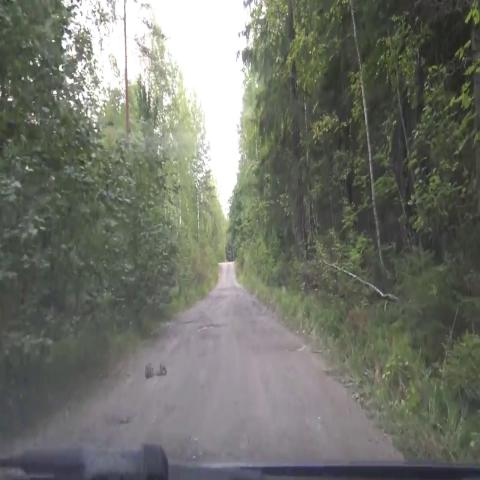pothole: (269, 328, 307, 370), (106, 399, 140, 438), (194, 320, 228, 344), (210, 286, 235, 307), (176, 315, 200, 332)
